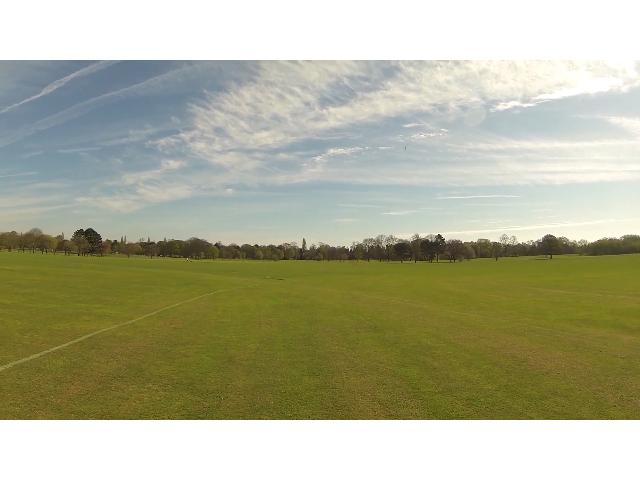Anti-Drone: (399, 143, 413, 159)
